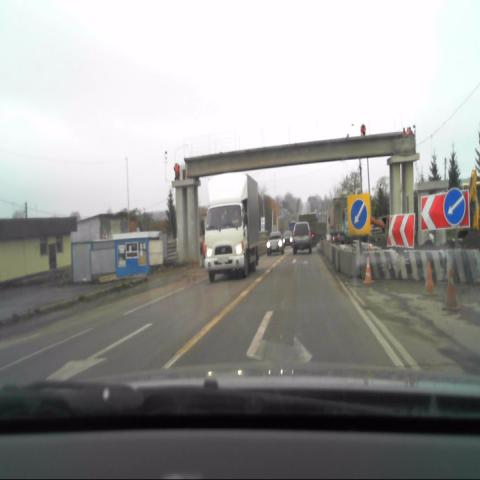4_2_2: (347, 195, 370, 237), (443, 184, 465, 224)
